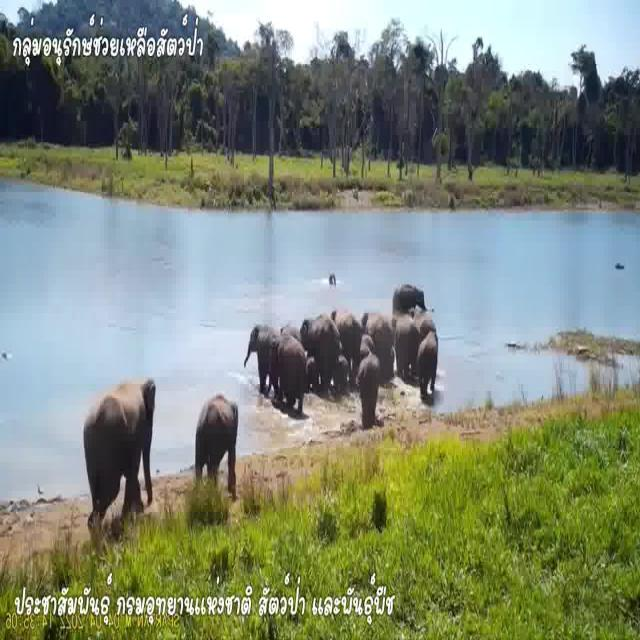Elephant: (82, 372, 157, 506), (197, 388, 239, 478), (300, 313, 338, 375), (271, 340, 309, 396), (416, 319, 442, 397), (245, 324, 275, 382), (357, 338, 379, 410), (391, 280, 434, 315), (394, 309, 418, 366)
